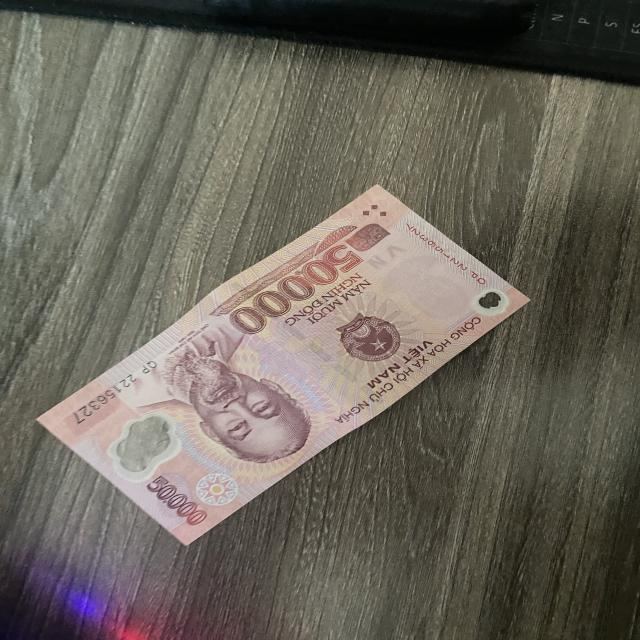50 000 VND: (34, 183, 531, 547)
